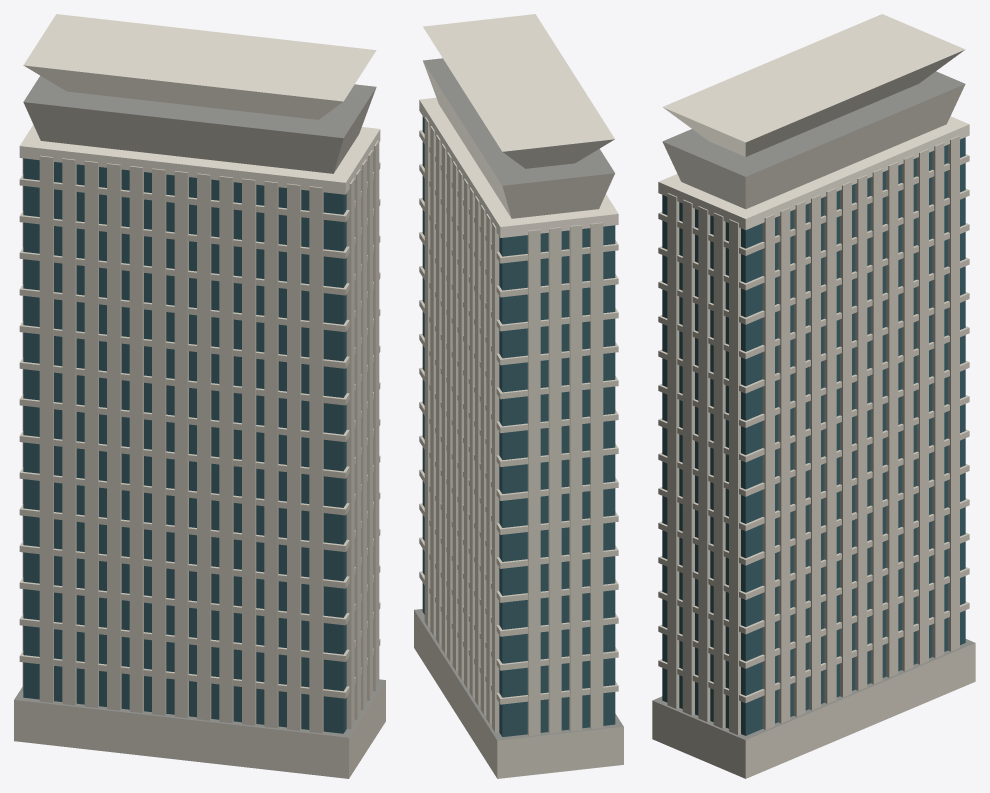
File: turnberry_place_w134677425.glb
The picture shows the model from 3 angles, left to right: view 1: azimuth 30°, elevation 25°; view 2: azimuth 150°, elevation 25°; view 3: azimuth 270°, elevation 25°; orthographic projection. The views are drawn at different scales.
Visible parts, largest first — view 1: Tower; view 2: Tower; view 3: Tower.
Part boxes in pixels (x1,y1,x2,y2): Tower: [14, 14, 385, 778]; Tower: [414, 14, 623, 778]; Tower: [652, 14, 975, 778].
Size of the model in its own units: 68.36 by 147 by 68.15.
